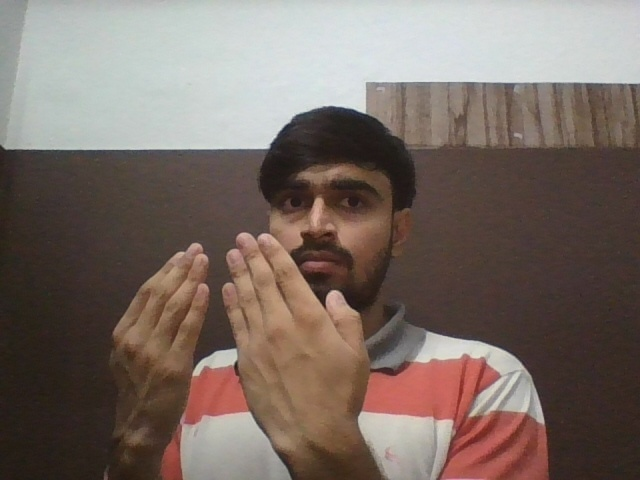Thankyou: (107, 231, 369, 452)
